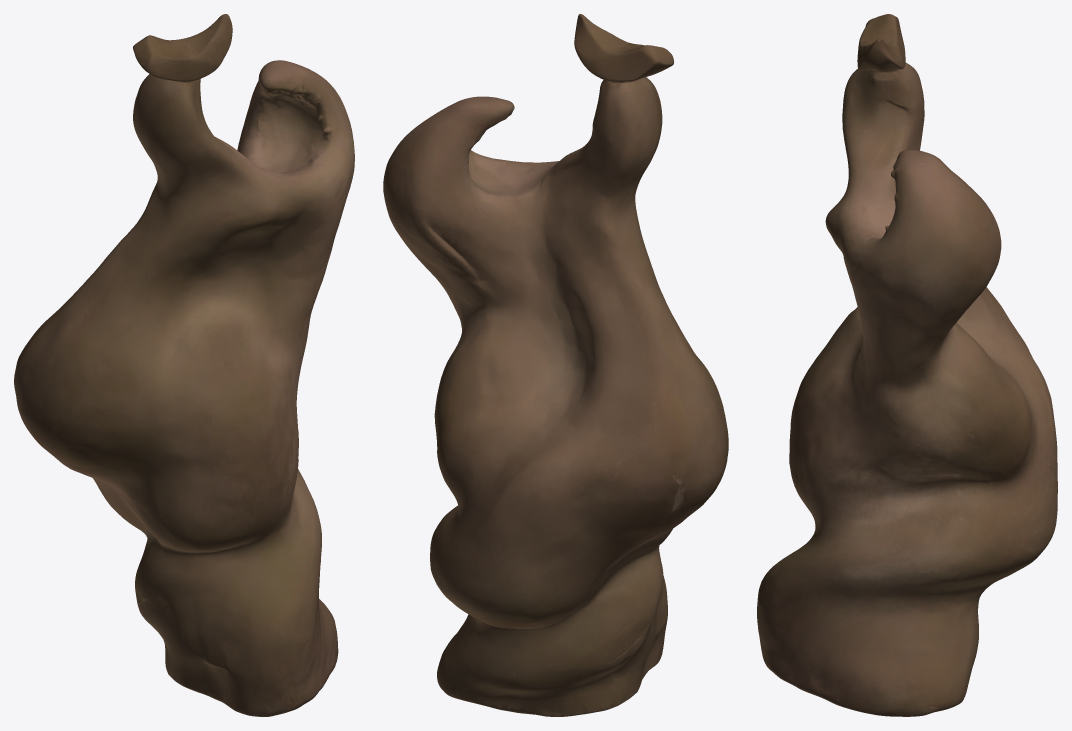
File: skulptur-1c.glb
3 views of the same model, side by side, from view 1: azimuth 30°, elevation 25°; view 2: azimuth 150°, elevation 25°; view 3: azimuth 270°, elevation 25° (orthographic). The views are drawn at different scales.
Parts seen in each view (by area): view 1: Mesh_0; view 2: Mesh_0; view 3: Mesh_0.
Part boxes in pixels (x1=…): Mesh_0: x1=14, y1=14, x2=354, y2=716; Mesh_0: x1=383, y1=14, x2=728, y2=716; Mesh_0: x1=757, y1=14, x2=1057, y2=716.
Bounding box in the file's own units: 0.9525 × 1.9 × 0.8248.
1 material, 1 textured.
